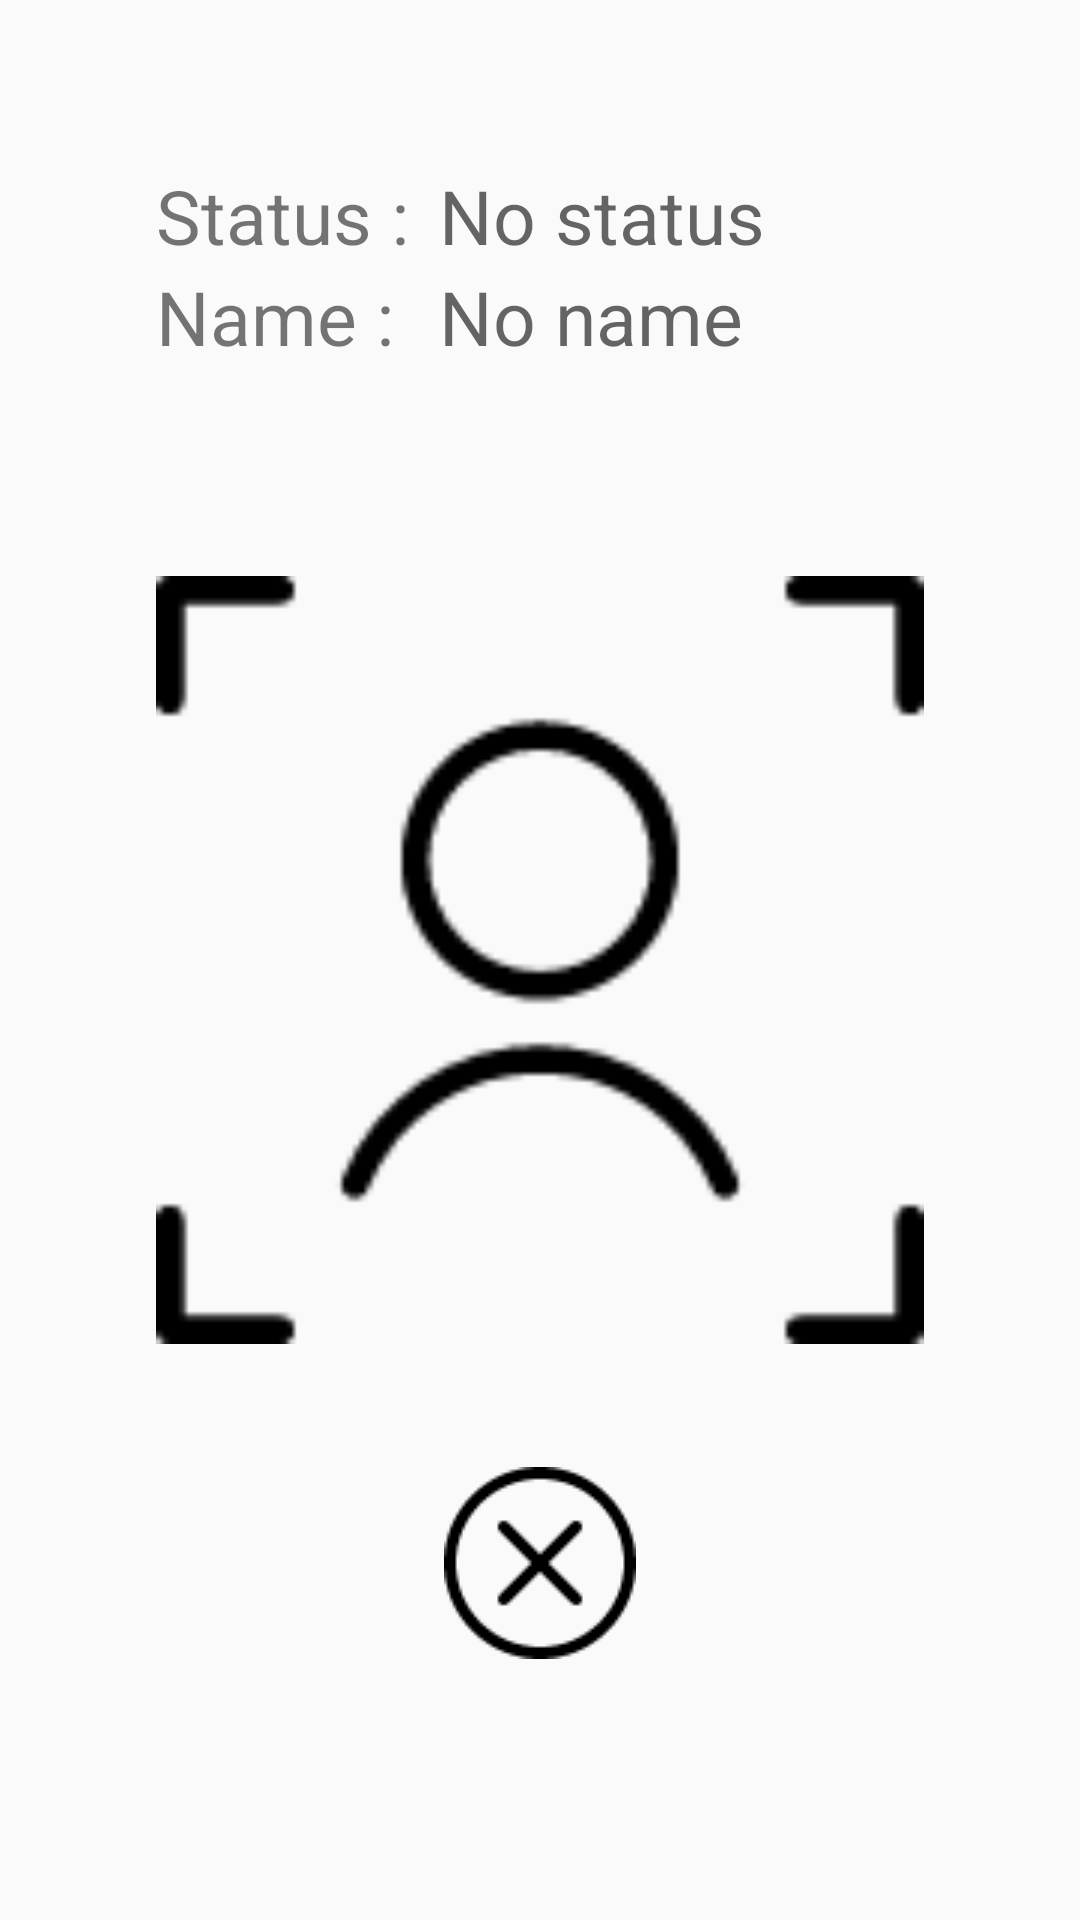

Icons on this 1080px x 1920px Android screen, each with the point to tap as [x,y]:
dead mark: [540,1563]
